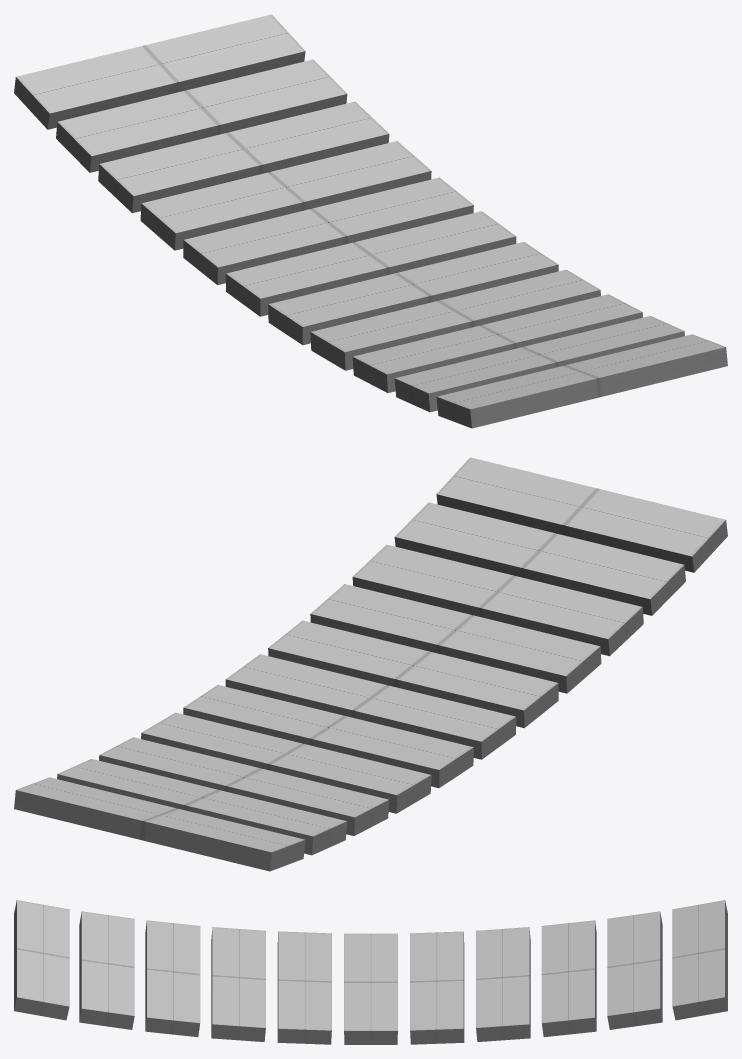
The model's file is BridgeBoxBenUp.fbx.
The picture shows the model from 3 angles, top to bottom: view 1: azimuth 30°, elevation 25°; view 2: azimuth 150°, elevation 25°; view 3: azimuth 270°, elevation 25°; orthographic projection. The views are drawn at different scales.
Visible parts, largest first — view 1: BridgeBoxBenUp; view 2: BridgeBoxBenUp; view 3: BridgeBoxBenUp.
Part boxes in pixels (bbox=[...]): BridgeBoxBenUp: bbox=[14, 14, 727, 428]; BridgeBoxBenUp: bbox=[14, 457, 727, 871]; BridgeBoxBenUp: bbox=[14, 900, 727, 1044].
Size of the model in its own units: 6.57 by 1.5 by 20.35.
